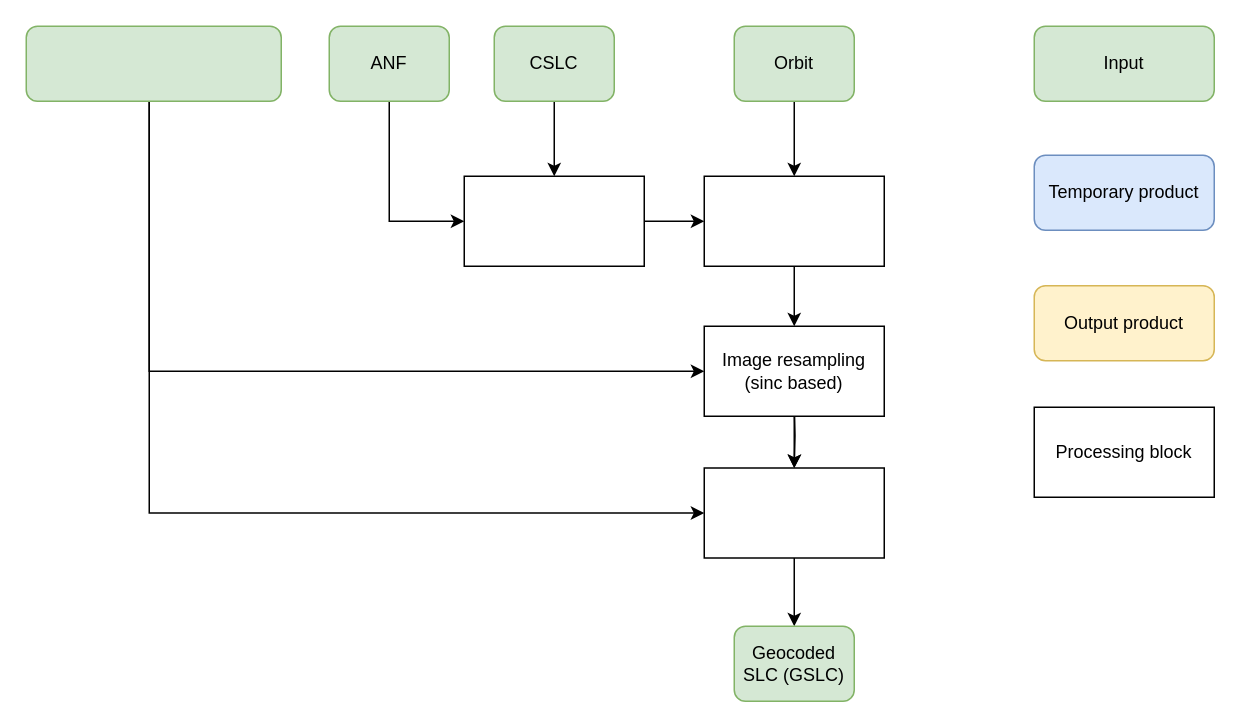
Some shapes in this 1241 by 728 pixel diagram are drawn without their labels. The shapes that lost their labels are listed below. From the top down, each one's centre as x and y in pixels, then its label:
(153,63): Reference-Secondary Images Association Matrix
(553,220): Gamma Falttening
(793,220): De-ramping
(793,512): Re-ramping
